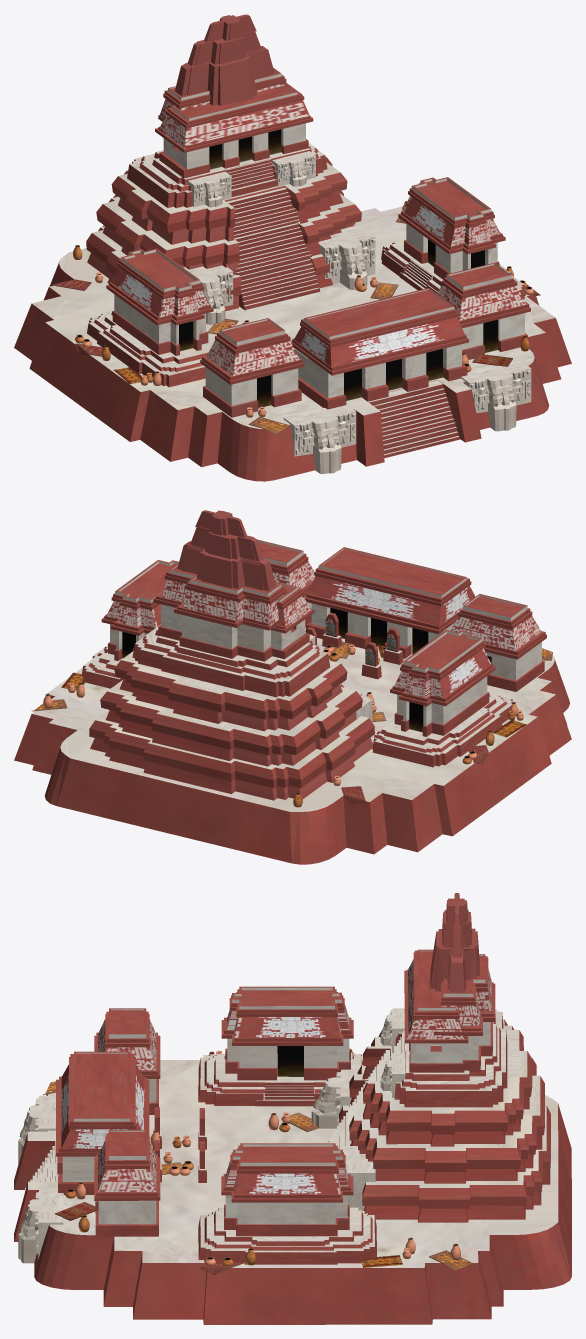
Rendered from maya_wonder_new.dae.
3 renders of one model, top to bottom at view 1: azimuth 30°, elevation 25°; view 2: azimuth 150°, elevation 25°; view 3: azimuth 270°, elevation 25°, orthographic. The views are drawn at different scales.
Visible parts, largest first — view 1: wonder; view 2: wonder; view 3: wonder.
Boxes of the visible parts, x1,y1,x2,y2 form: wonder: (14, 14, 571, 481); wonder: (14, 510, 571, 864); wonder: (14, 893, 571, 1324).
Bounding box in the file's own units: 53.79 × 56.04 × 34.76.
